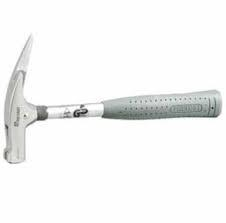hammer: (1, 30, 222, 164)
